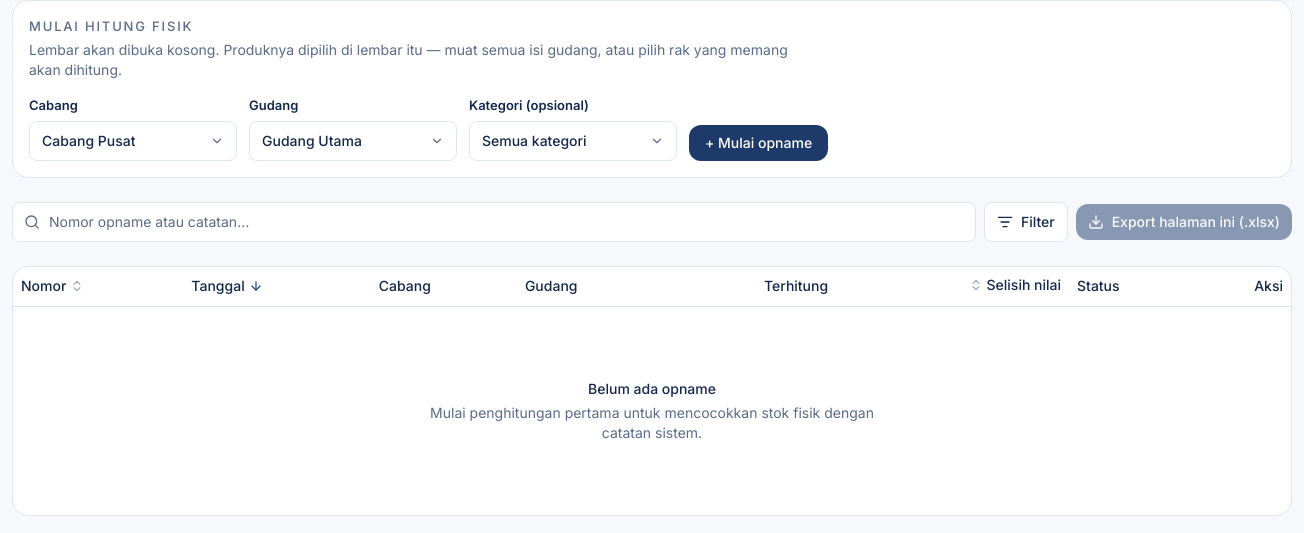
OpnameScreen › says an empty page is the filter's doing when it is
Expected: the text "Belum ada opname" is shown, [588, 380, 716, 397]
In the search field named "Cari opname": (494, 222) [12, 202, 976, 242], type "OPN-9999"
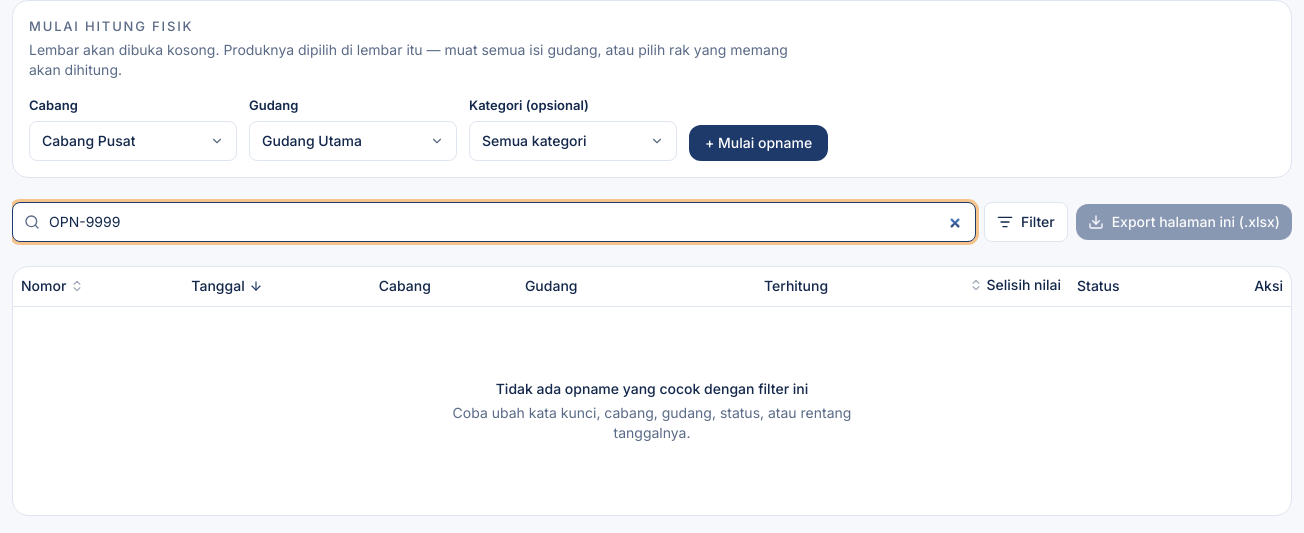
Result: the text "Tidak ada opname yang cocok dengan filter ini" is shown at [496, 380, 808, 397]
